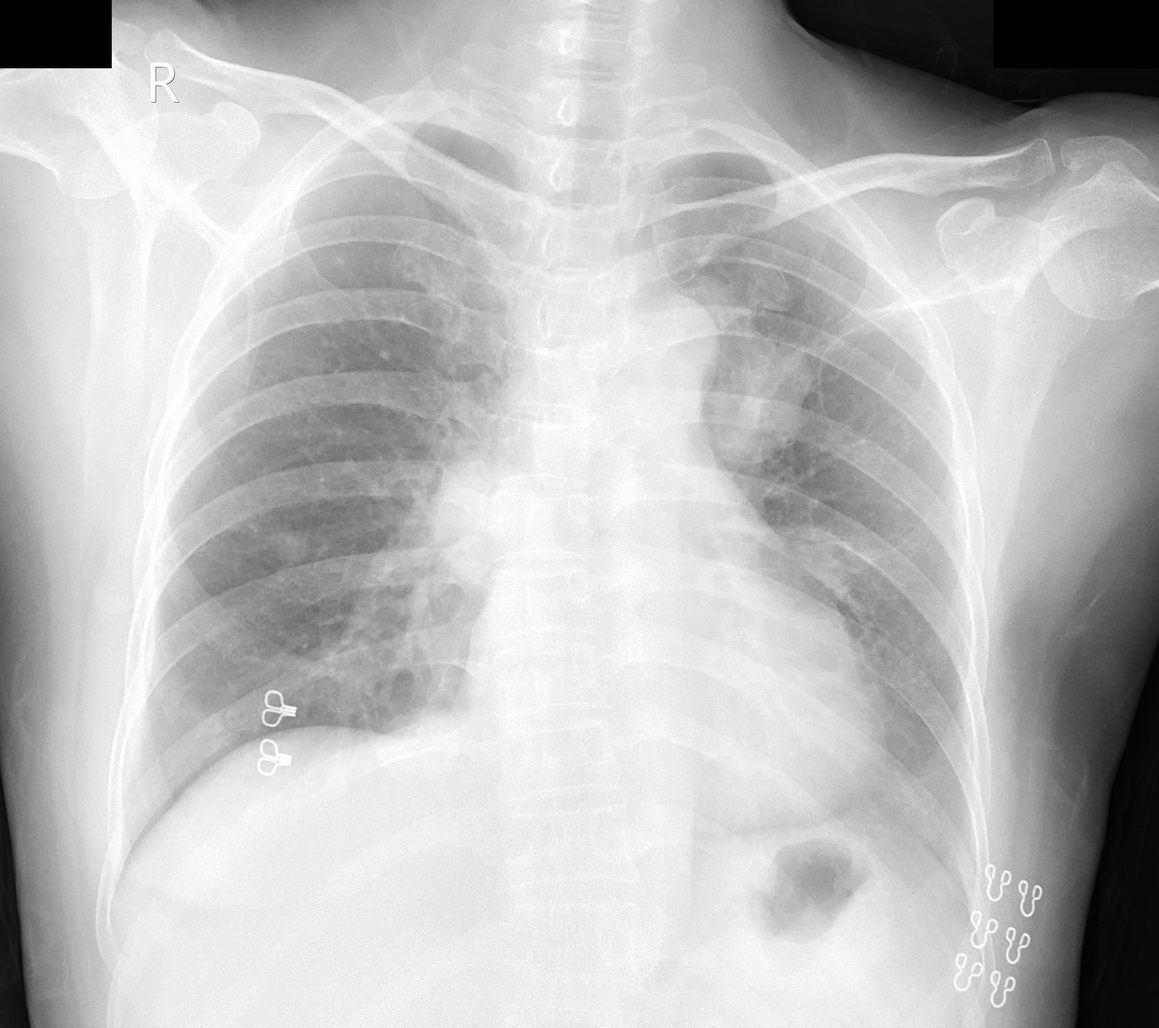Cardiomegaly: (457, 618, 889, 828)
